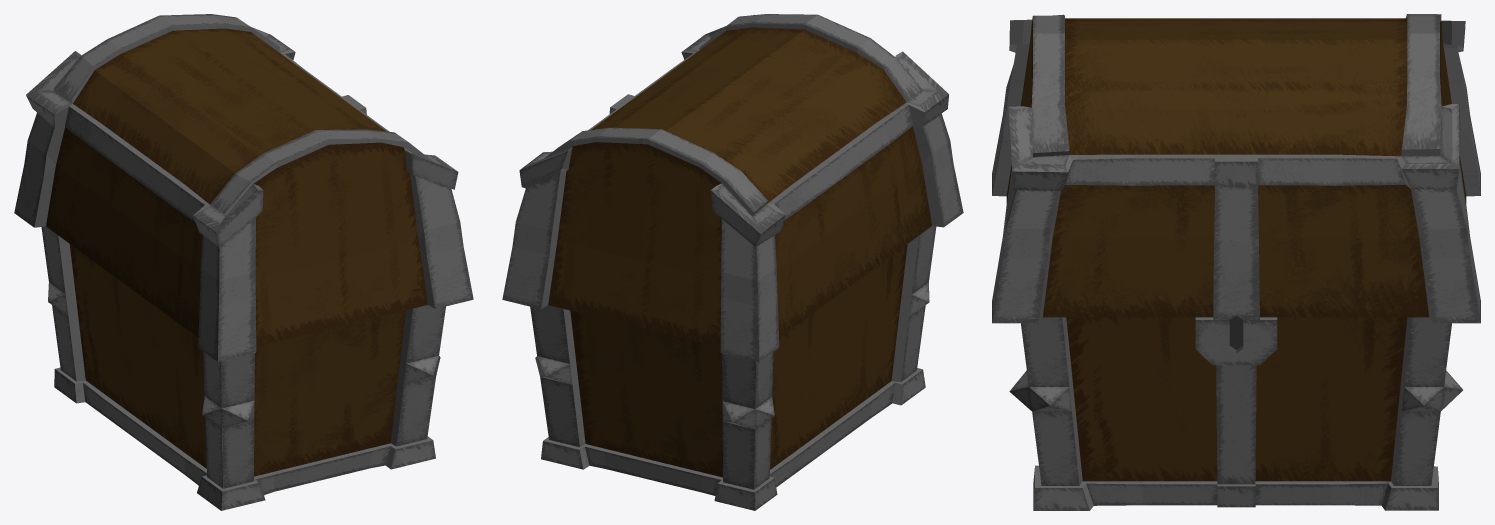
The model's file is coffre-texture.fbx.
The picture shows the model from 3 angles, left to right: view 1: azimuth 30°, elevation 25°; view 2: azimuth 150°, elevation 25°; view 3: azimuth 270°, elevation 25°; orthographic projection. The views are drawn at different scales.
Visible parts, largest first — view 1: Cube.001, Cube; view 2: Cube.001, Cube; view 3: Cube.001, Cube.
Boxes of the visible parts, left/top/right/bottom form: Cube.001: left=14, top=14, right=473, bottom=361; Cube: left=41, top=226, right=445, bottom=510; Cube.001: left=502, top=14, right=963, bottom=362; Cube: left=530, top=226, right=936, bottom=510; Cube.001: left=992, top=14, right=1480, bottom=365; Cube: left=1009, top=317, right=1462, bottom=510.
Bounding box in the file's own units: 245 × 316 × 337.
3 materials, 2 textured.
